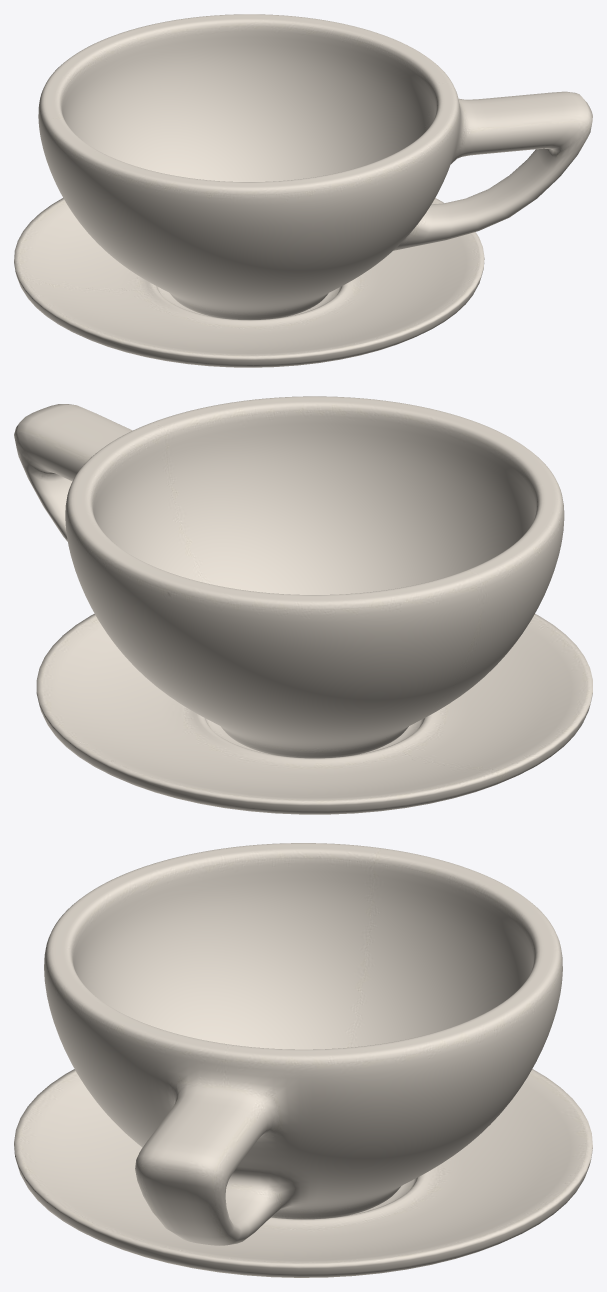
The model's file is espresso-cup.glb.
3 renders of one model, top to bottom at view 1: azimuth 30°, elevation 25°; view 2: azimuth 150°, elevation 25°; view 3: azimuth 270°, elevation 25°, orthographic. The views are drawn at different scales.
Parts seen in each view (by area): view 1: Cup, Saucer; view 2: Cup, Saucer; view 3: Cup, Saucer.
Part boxes in pixels (x1,y1,x2,y2): Cup: (38, 14, 592, 319); Saucer: (14, 198, 484, 367); Cup: (14, 396, 564, 758); Saucer: (36, 614, 592, 814); Cup: (44, 843, 562, 1245); Saucer: (14, 1069, 592, 1277).
Size of the model in its own units: 1.58 by 0.6302 by 1.3.
Materials: 2 (2 with a texture image).
